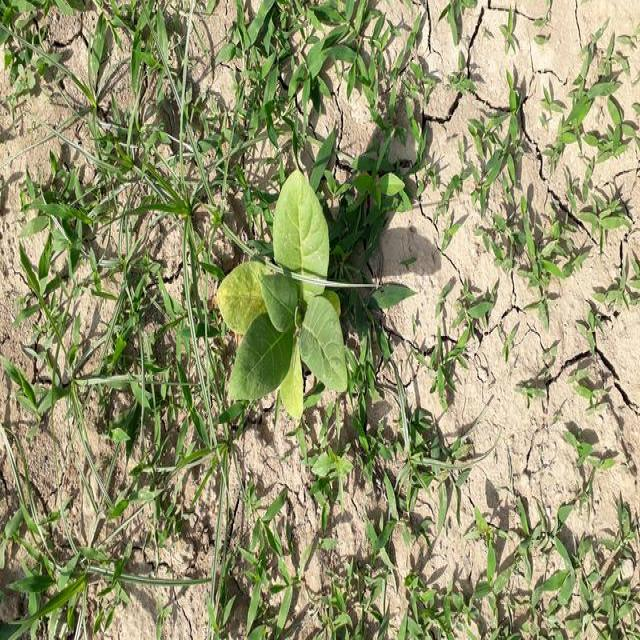crop: (210, 171, 356, 413)
